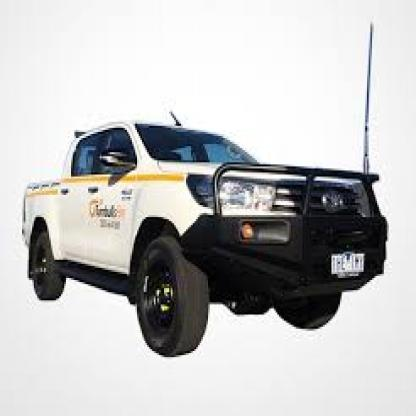light_vehicle: (10, 114, 401, 357)
